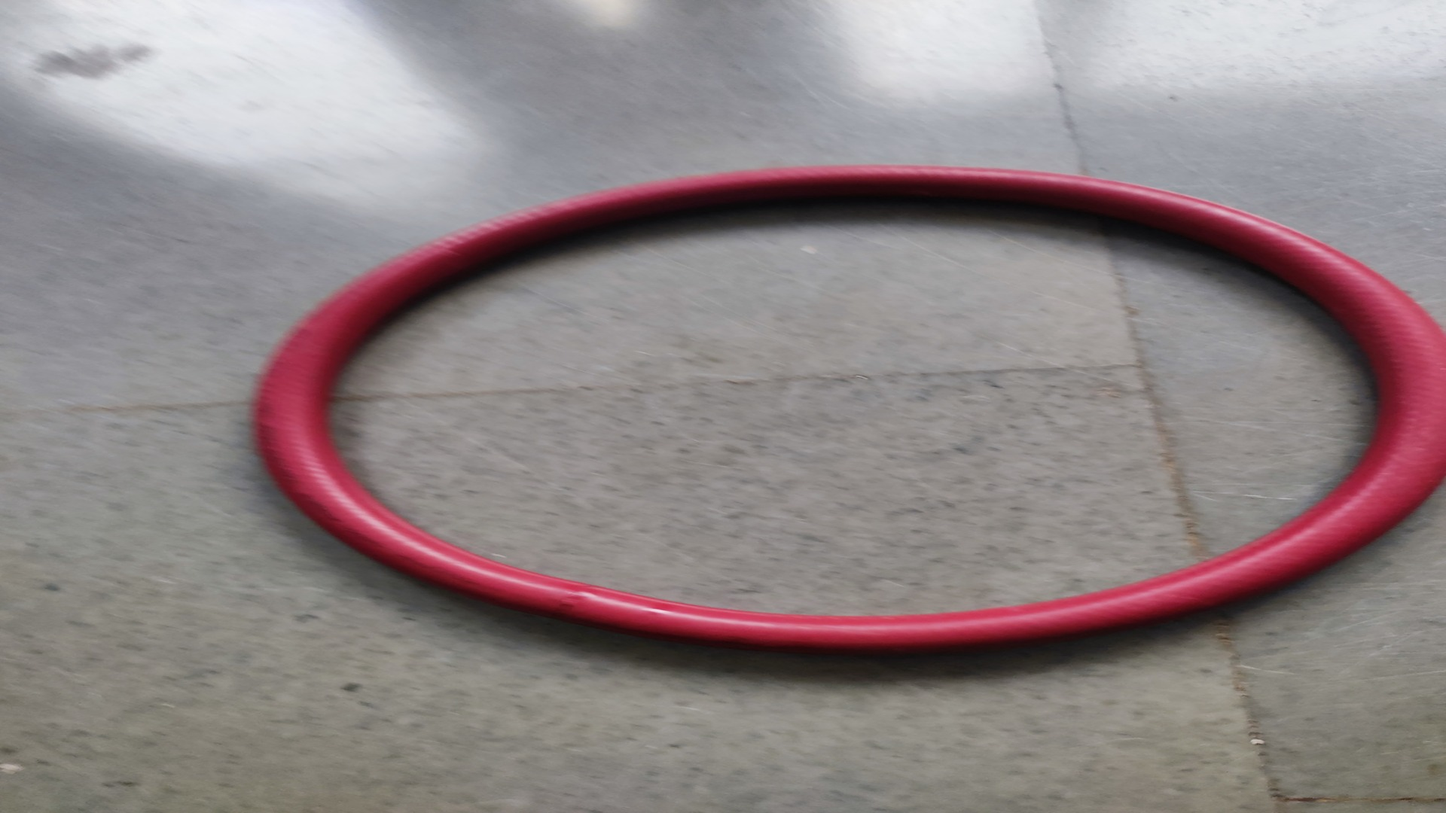Red ring: (261, 165, 1432, 651)
